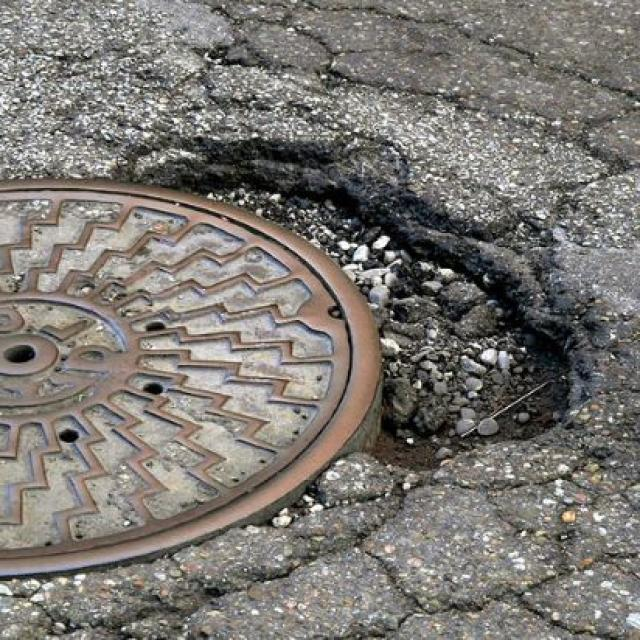pothole: (121, 124, 597, 469)
